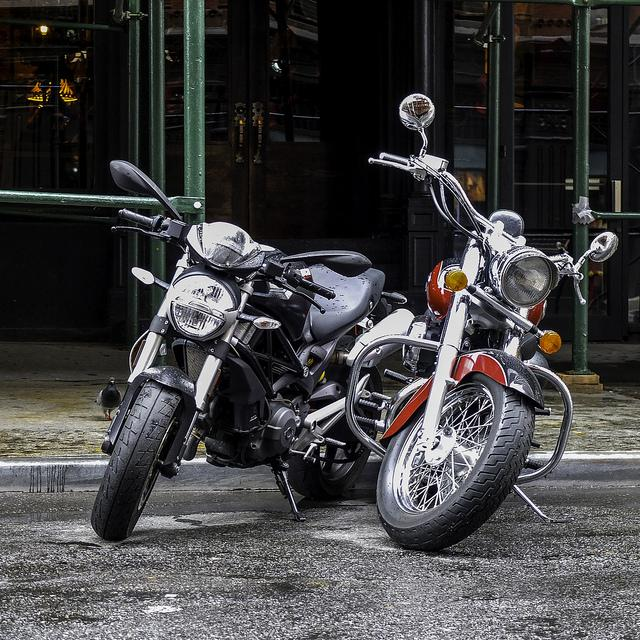motor: (339, 90, 623, 561), (89, 161, 408, 544)
